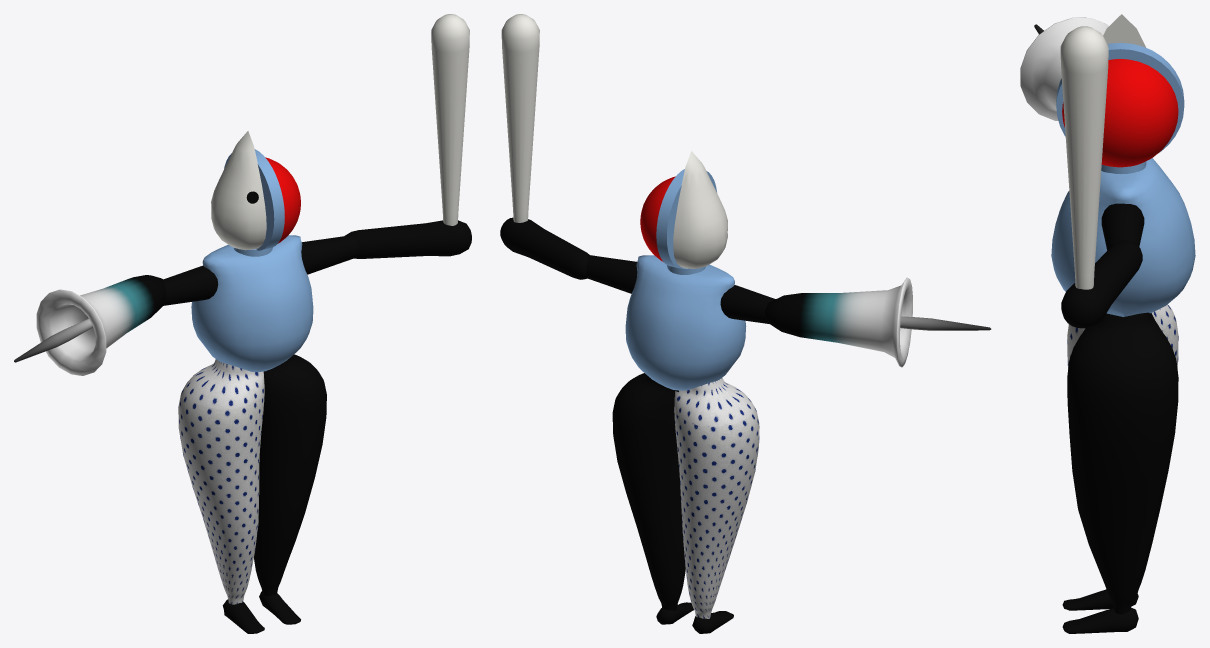
File: Solider.gltf
3 views of the same model, side by side, from view 1: azimuth 30°, elevation 25°; view 2: azimuth 150°, elevation 25°; view 3: azimuth 270°, elevation 25° (orthographic). The views are drawn at different scales.
Visible parts, largest first — view 1: Costume, Bat, Shoes; view 2: Costume, Bat, Shoes; view 3: Costume, Bat, Shoes.
Boxes of the visible parts, box(x1,y1,x2,y2) form: Costume: box(14, 131, 471, 604); Bat: box(431, 14, 469, 225); Shoes: box(222, 591, 300, 633); Costume: box(500, 151, 991, 618); Bat: box(501, 14, 539, 222); Shoes: box(656, 602, 733, 633); Costume: box(1020, 14, 1195, 614); Bat: box(1060, 26, 1108, 289); Shoes: box(1062, 589, 1138, 633).
Bounding box in the file's own units: 5.17 × 5.86 × 1.33.
1 material, 1 textured.
